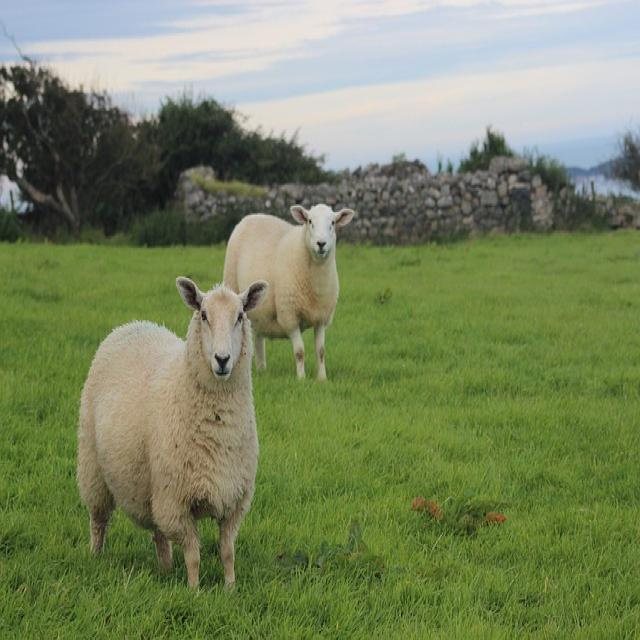goat: (77, 279, 261, 593), (221, 207, 355, 382)
